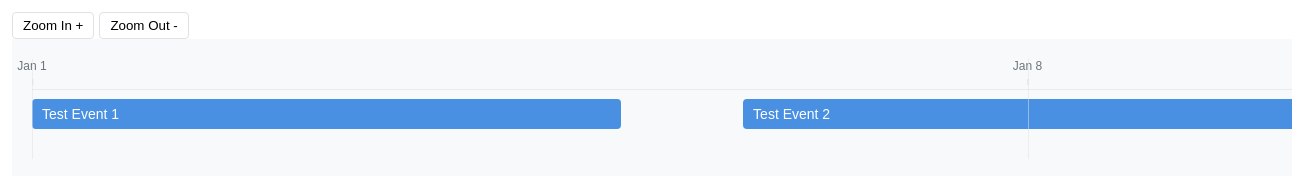
Test: Timeline › shows context menu on right click
Right-click the text "Test Event 1".
right_click(80, 114)  # box [42, 106, 119, 122]
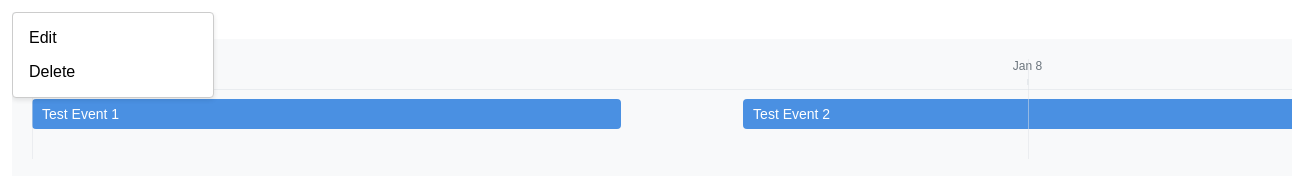
Now the text "Edit" is shown, box [29, 29, 57, 46]
Now the text "Delete" is shown, box [29, 63, 75, 80]
